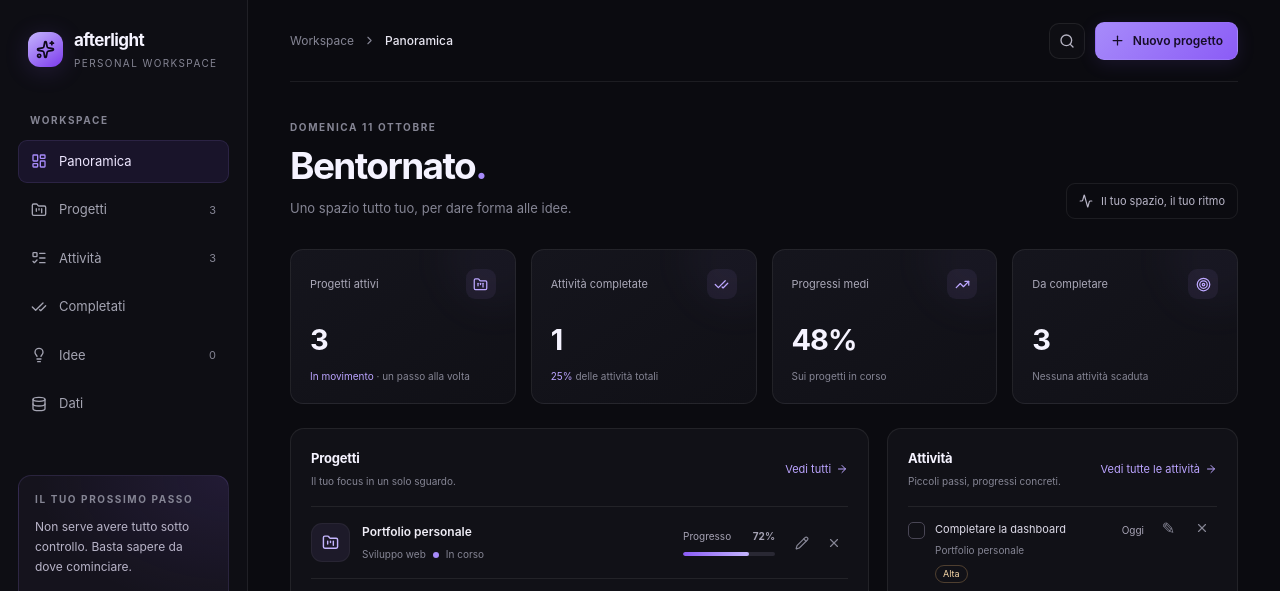
Test: Afterlight dashboard › filtra i progetti in base alla ricerca
The width and height of the screenshot is (1280, 591).
Click the button named "Apri ricerca": (1067, 40) left=1049, top=22, right=1085, bottom=58
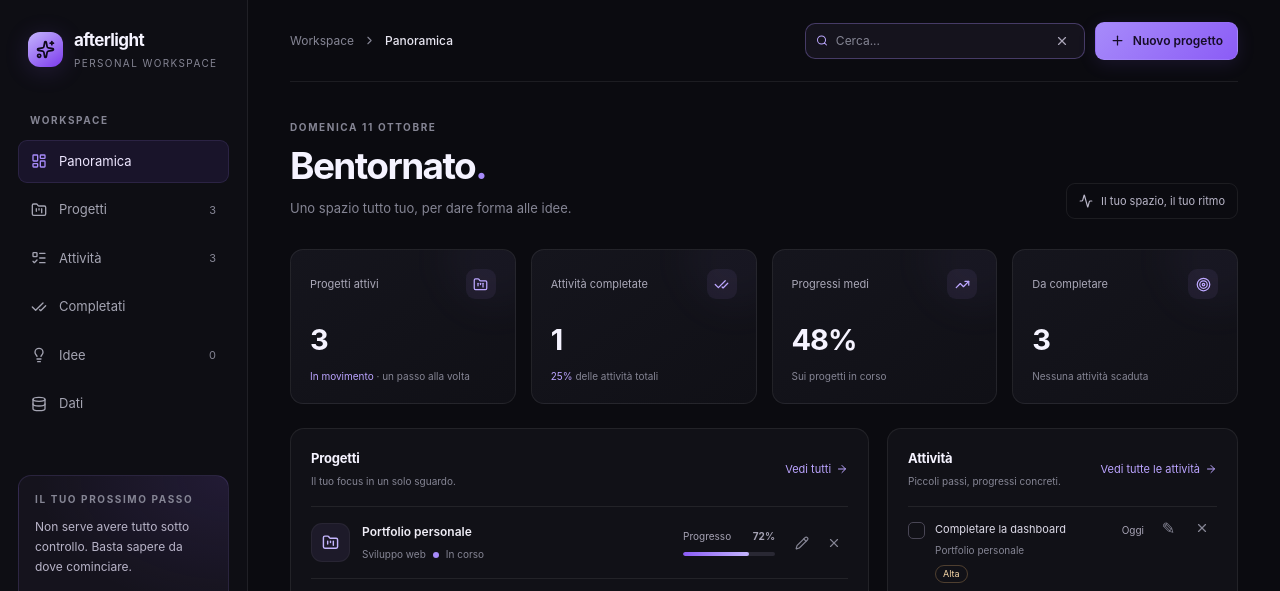
In the field named "Cerca progetti, attività e idee": (939, 40) left=836, top=32, right=1043, bottom=50, type "Python"
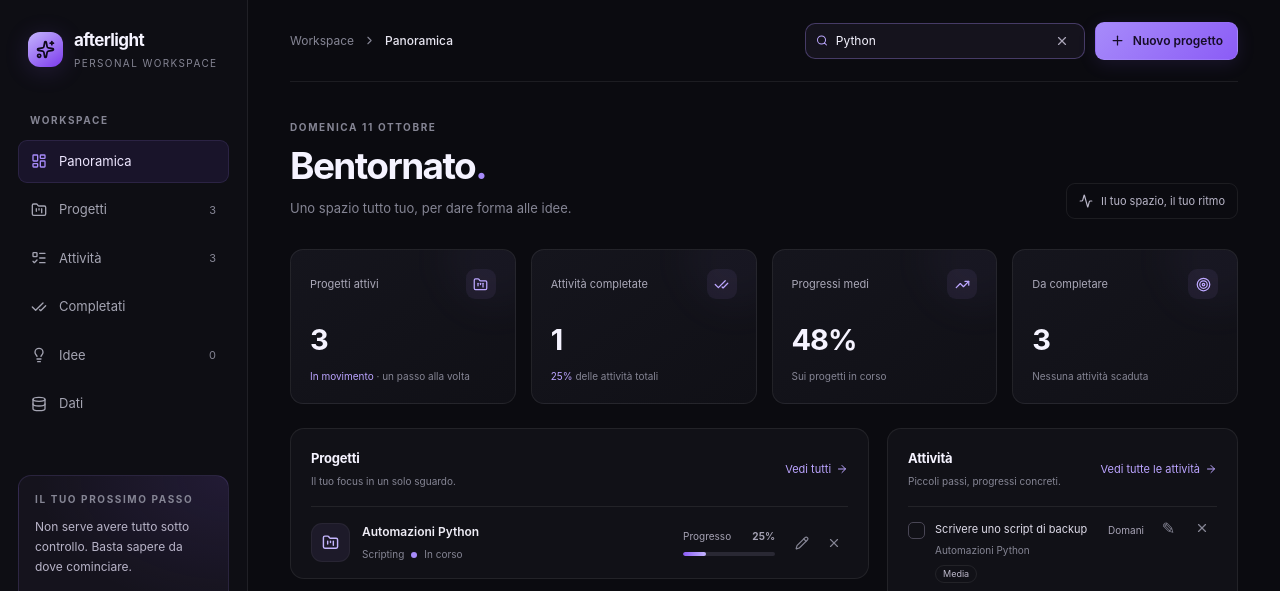
Check: the text "Automazioni Python" next to "Progresso" is shown, box left=362, top=524, right=479, bottom=539
Check: the text "Portfolio personale" is gone
